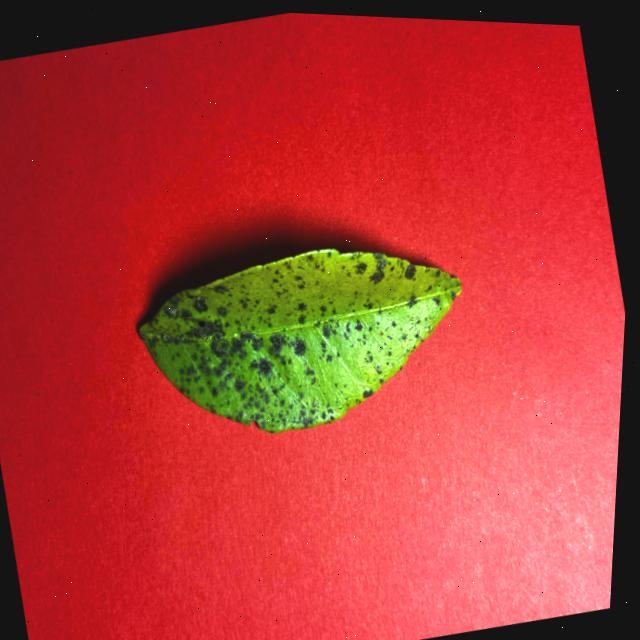sooty_mold: (139, 249, 460, 432)
